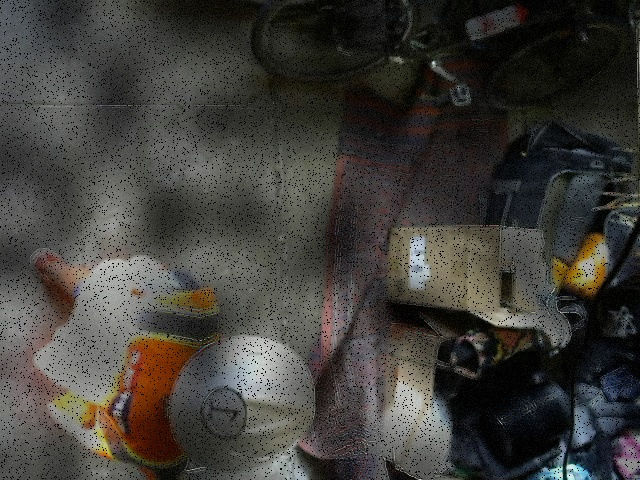one: (200, 386, 247, 438)
